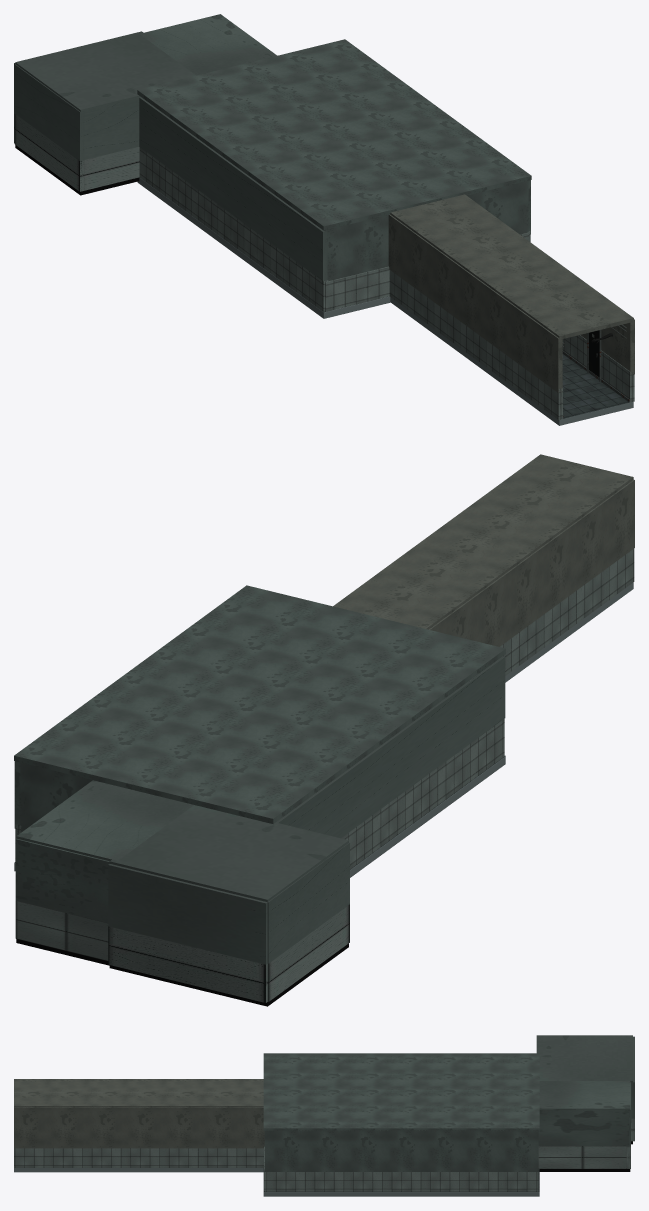
File: last-round-ward-v1.glb
The picture shows the model from 3 angles, top to bottom: view 1: azimuth 30°, elevation 25°; view 2: azimuth 150°, elevation 25°; view 3: azimuth 270°, elevation 25°; orthographic projection. The views are drawn at different scales.
Parts seen in each view (by area): view 1: Ward_Damp_flaking_paint, Ward_Corridor_scraped_plaster, Ward_Cracked_wall_tiles, Ward_Concrete, Ward_Dirty_floor_tiles; view 2: Ward_Damp_flaking_paint, Ward_Corridor_scraped_plaster, Ward_Cracked_wall_tiles, Ward_Concrete, Ward_Dirty_floor_tiles; view 3: Ward_Damp_flaking_paint, Ward_Corridor_scraped_plaster, Ward_Cracked_wall_tiles, Ward_Concrete, Ward_Dirty_floor_tiles.
Boxes of the visible parts, x1,y1,x2,y2 form: Ward_Damp_flaking_paint: (14,14,531,281); Ward_Corridor_scraped_plaster: (388,194,634,392); Ward_Cracked_wall_tiles: (14,112,634,419); Ward_Concrete: (137,178,633,425); Ward_Dirty_floor_tiles: (15,145,628,418); Ward_Damp_flaking_paint: (14,585,505,964); Ward_Corridor_scraped_plaster: (333,454,634,646); Ward_Cracked_wall_tiles: (15,548,634,1002); Ward_Concrete: (14,582,633,877); Ward_Dirty_floor_tiles: (14,755,505,1006); Ward_Damp_flaking_paint: (263,1035,634,1171); Ward_Corridor_scraped_plaster: (14,1079,264,1148); Ward_Cracked_wall_tiles: (14,1118,634,1191); Ward_Concrete: (14,1168,539,1196); Ward_Dirty_floor_tiles: (263,1141,632,1191).
Size of the model in its own units: 11.83 by 3.92 by 32.2.
Materials: 30 (11 with a texture image).
